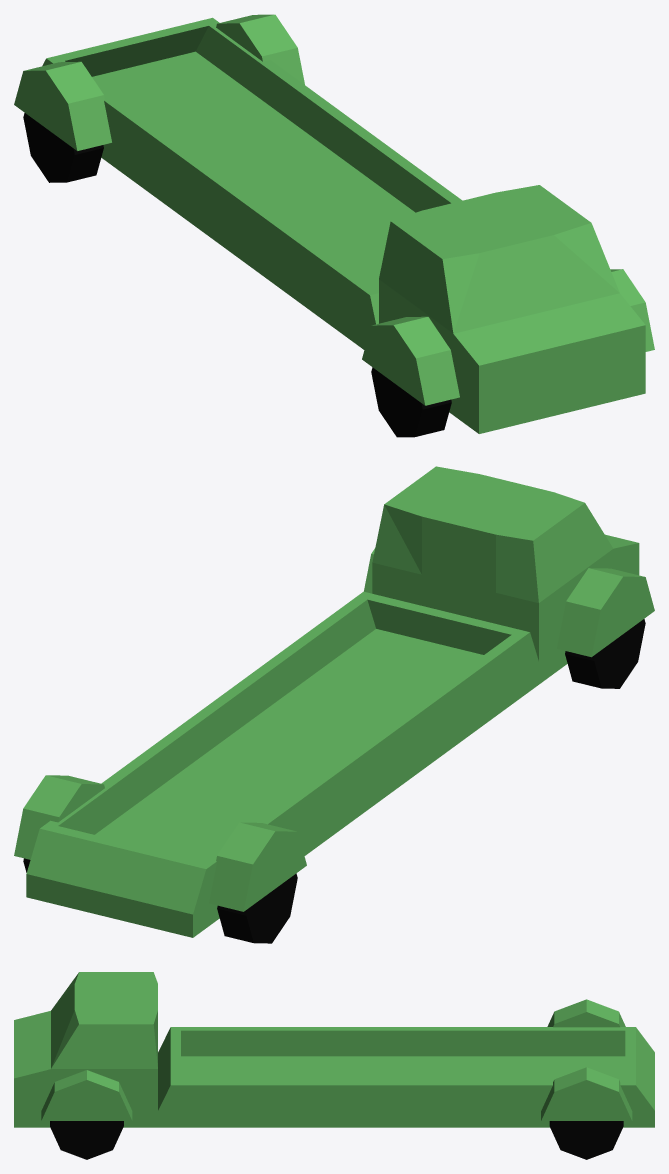
Rendered from Float.fbx.
3 views of the same model, one above another, from view 1: azimuth 30°, elevation 25°; view 2: azimuth 150°, elevation 25°; view 3: azimuth 270°, elevation 25° (orthographic). The views are drawn at different scales.
Visible parts, largest first — view 1: pCube1, pCylinder6, pCylinder4, pCylinder7, pCylinder3, pCylinder5, pCylinder1; view 2: pCube1, pCylinder6, pCylinder4, pCylinder7, pCylinder5, pCylinder3; view 3: pCube1, pCylinder7, pCylinder1, pCylinder8, pCylinder2, pCylinder6.
Boxes of the visible parts, bbox=[...] form: pCube1: bbox=[42, 17, 645, 433]; pCylinder6: bbox=[14, 61, 111, 150]; pCylinder4: bbox=[362, 316, 459, 405]; pCylinder7: bbox=[216, 14, 304, 84]; pCylinder3: bbox=[371, 367, 451, 437]; pCylinder5: bbox=[23, 113, 103, 182]; pCylinder1: bbox=[610, 269, 654, 351]; pCube1: bbox=[26, 466, 639, 937]; pCylinder6: bbox=[209, 822, 306, 911]; pCylinder4: bbox=[557, 568, 654, 657]; pCylinder7: bbox=[14, 775, 104, 859]; pCylinder5: bbox=[217, 873, 297, 943]; pCylinder3: bbox=[565, 619, 645, 688]; pCube1: bbox=[14, 972, 654, 1127]; pCylinder7: bbox=[541, 1067, 632, 1120]; pCylinder1: bbox=[41, 1070, 132, 1120]; pCylinder8: bbox=[549, 1121, 623, 1159]; pCylinder2: bbox=[50, 1121, 123, 1159]; pCylinder6: bbox=[547, 999, 625, 1027].
Size of the model in its own units: 10.67 by 7.65 by 35.9.
